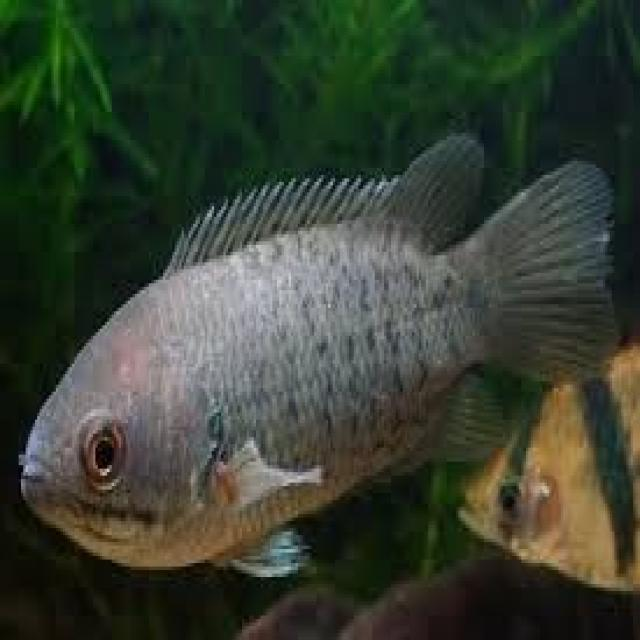Climbing-Perch: (23, 153, 621, 568)
